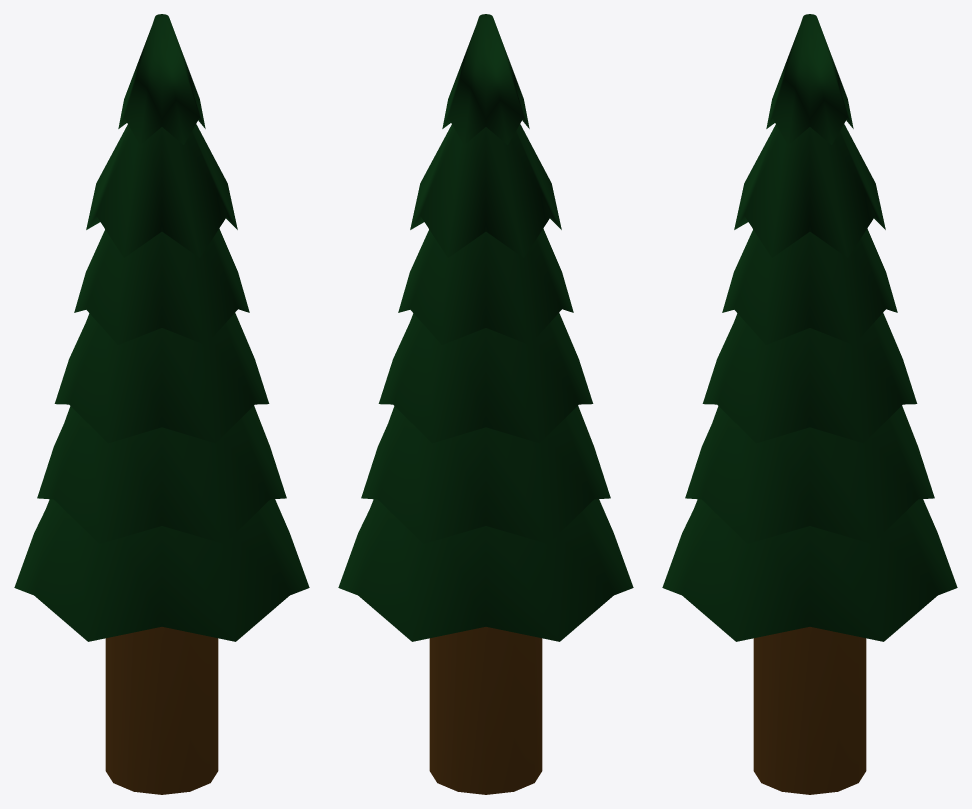
File: tree.fbx
3 views of the same model, side by side, from view 1: azimuth 30°, elevation 25°; view 2: azimuth 150°, elevation 25°; view 3: azimuth 270°, elevation 25° (orthographic).
Parts seen in each view (by area): view 1: Pino.025; view 2: Pino.025; view 3: Pino.025.
Boxes of the visible parts, bbox=[...] form: Pino.025: bbox=[14, 14, 309, 794]; Pino.025: bbox=[338, 14, 633, 794]; Pino.025: bbox=[662, 14, 957, 794].
Size of the model in its own units: 409 by 409 by 1153.
